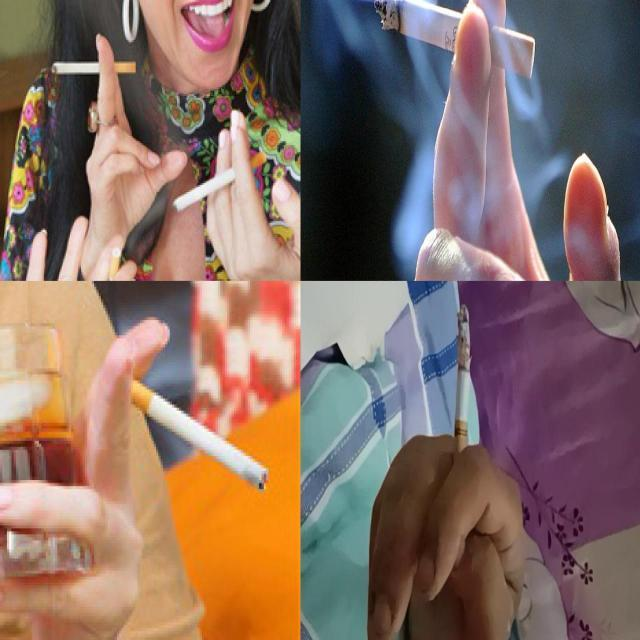smoke: (124, 374, 270, 492), (374, 0, 536, 80), (170, 150, 266, 208), (452, 304, 472, 490), (51, 58, 136, 74)
